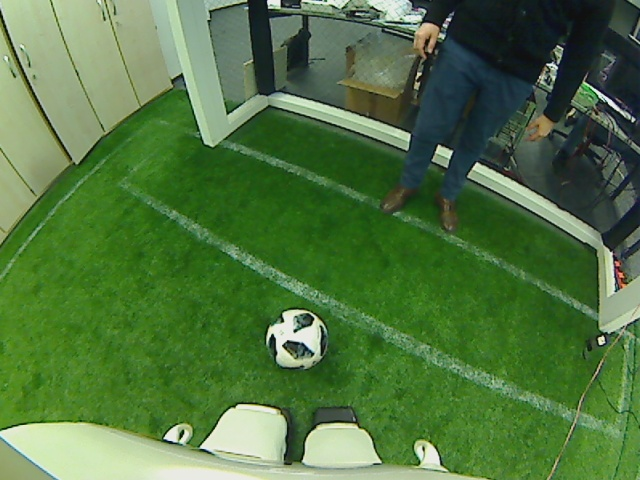ball: (261, 307, 330, 371)
